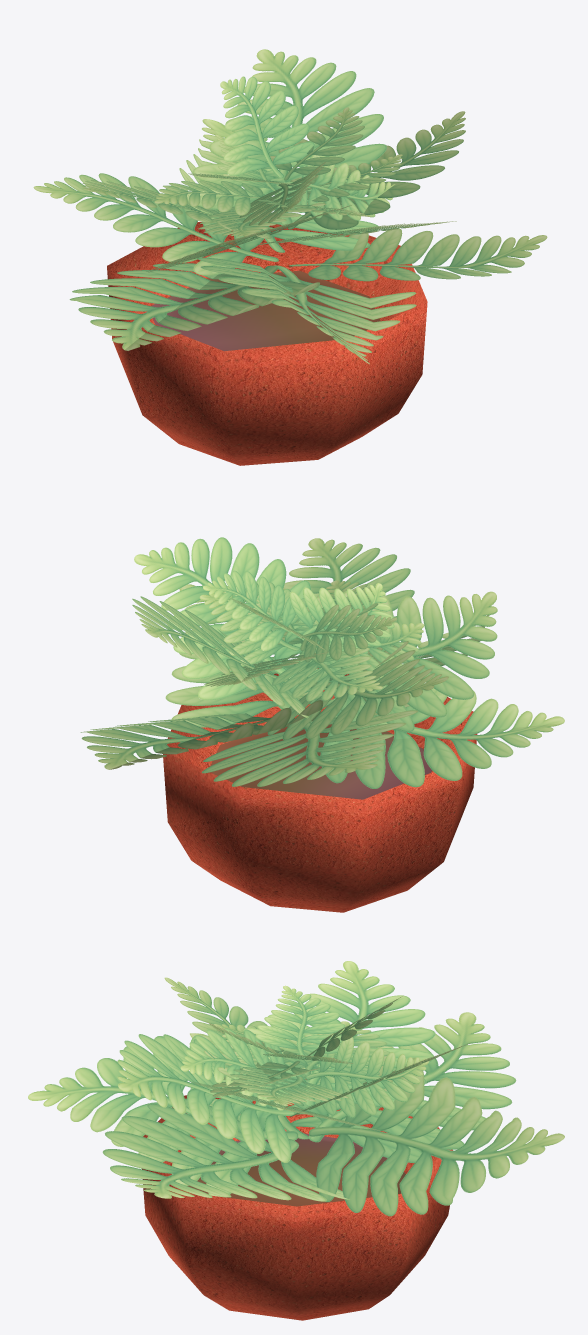
File: plant_02.glb
3 views of the same model, one above another, from view 1: azimuth 30°, elevation 25°; view 2: azimuth 150°, elevation 25°; view 3: azimuth 270°, elevation 25° (orthographic). The views are drawn at different scales.
Visible parts, largest first — view 1: Plant_02; view 2: Plant_02; view 3: Plant_02.
Part boxes in pixels (<box>): Plant_02: <box>33,49,547,465</box>; Plant_02: <box>80,537,564,912</box>; Plant_02: <box>28,961,564,1320</box>.
Size of what is drawn, in the model's own units: 2.24 by 1.34 by 2.17.
3 materials, 3 textured.
